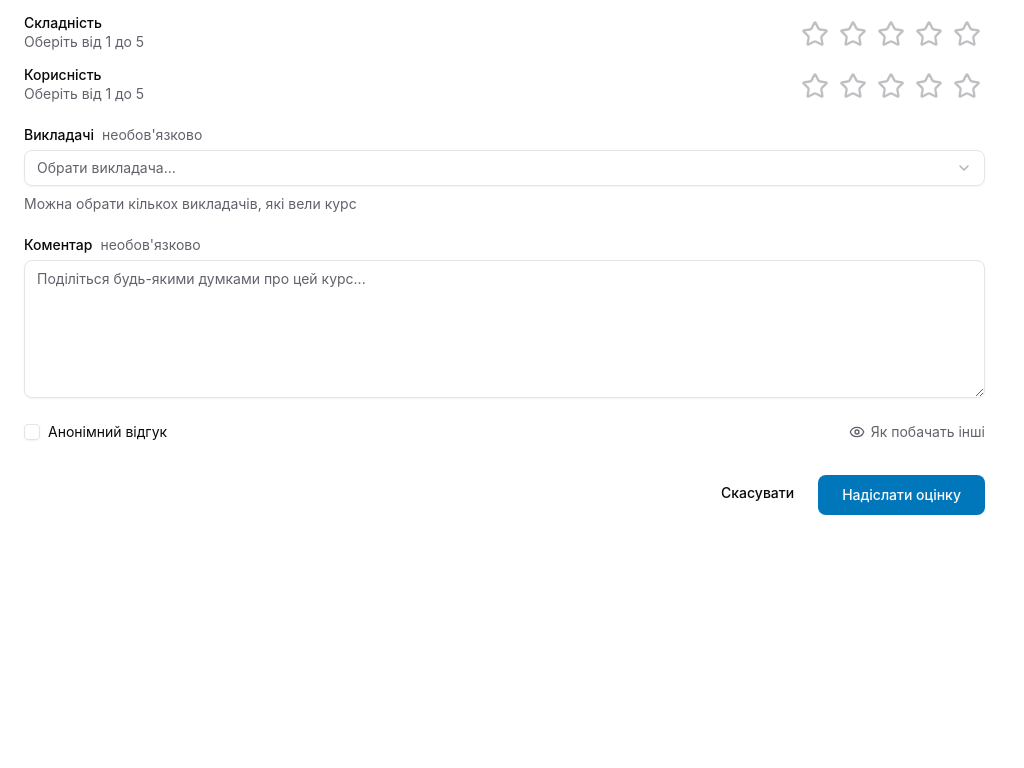
Test: RatingForm › previews the review under the author's name, then anonymously
The width and height of the screenshot is (1024, 768).
Type "Корисний курс" into the text box with test id "rating-comment-textarea" at [504, 329], box [24, 260, 985, 398]
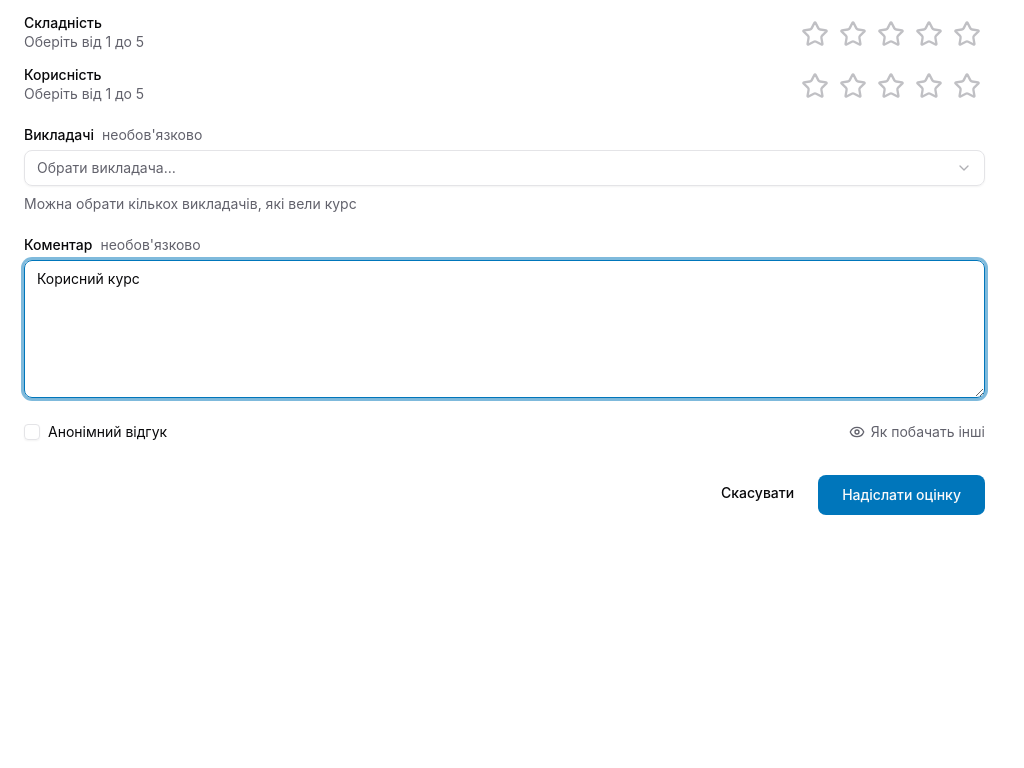
Click the button "Як побачать інші" at [917, 432], box [849, 422, 985, 442]
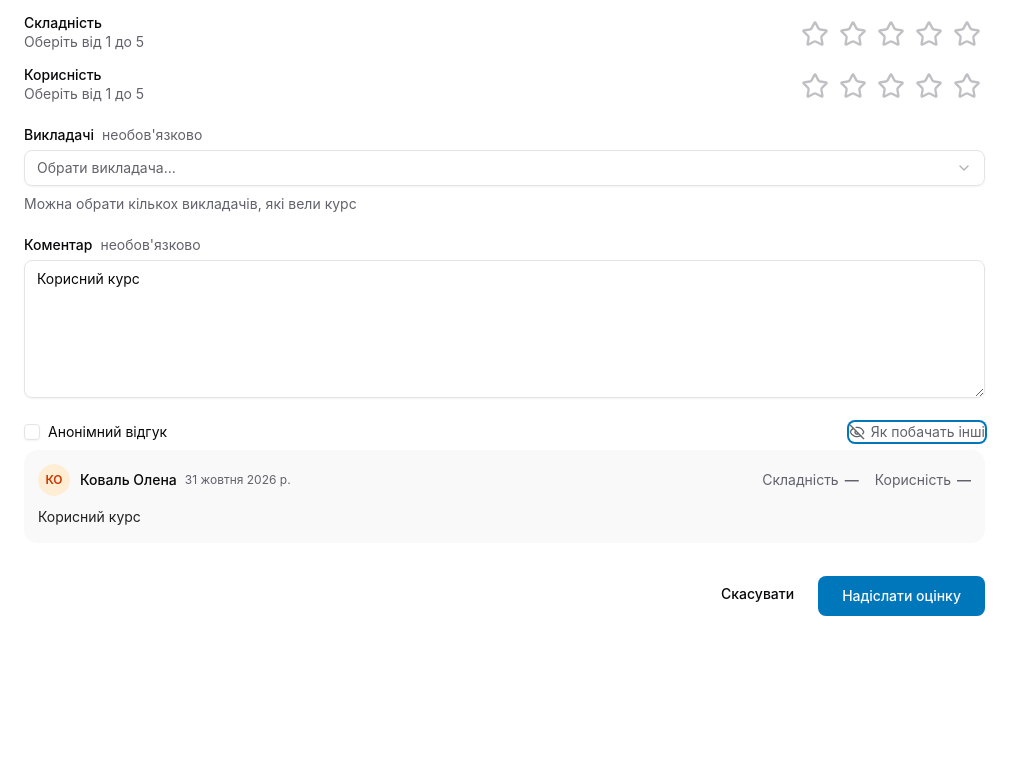
Check: the element named "Попередній перегляд відгуку" shows "Коваль Олена", box [80, 471, 177, 488]
Check: the element named "Попередній перегляд відгуку" shows "Корисний курс", box [38, 508, 141, 525]
Click the checkbox with test id "rating-anonymous-checkbox" at [32, 432], box [24, 424, 40, 440]
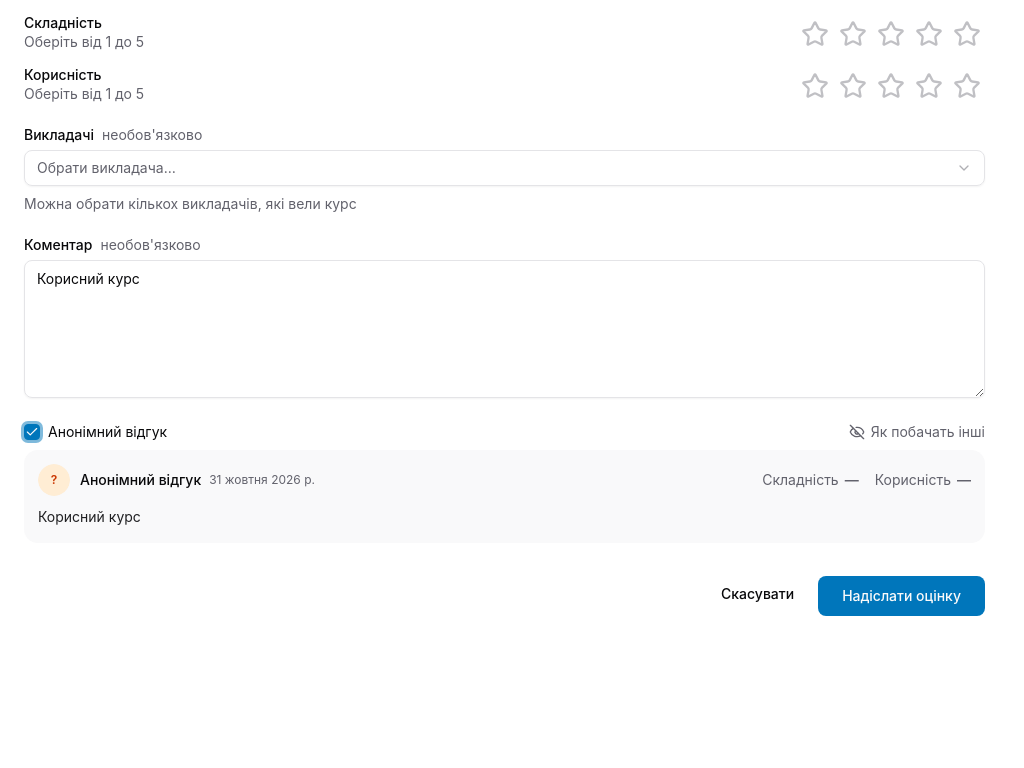
Check: the element named "Попередній перегляд відгуку" shows "Анонімний відгук", box [80, 471, 201, 488]
Check: the element named "Попередній перегляд відгуку" no longer shows "Коваль Олена", box [24, 450, 985, 543]
